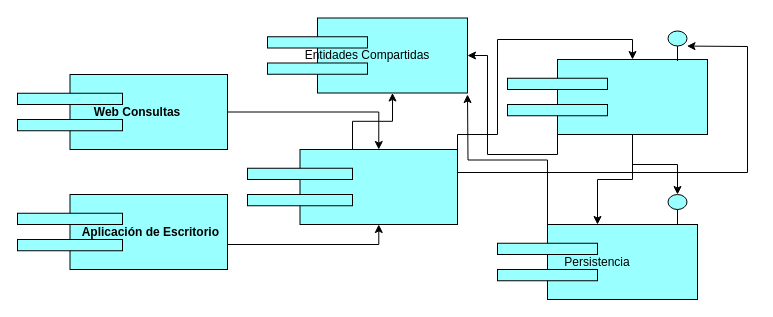
Some shapes in this 773 by 317 pixel diagram are drawn without their labels. Here are the shapes that lost their labels. From the top down, the box of each, then its label:
(506, 58, 708, 134): Logica
(246, 148, 458, 224): Servicio Web
